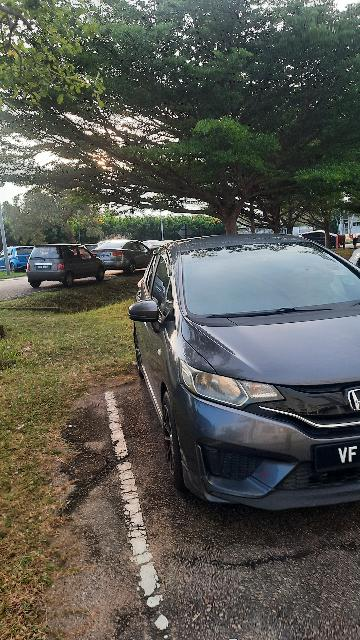License_Plate: (313, 443, 360, 476)
car: (129, 230, 360, 526)
